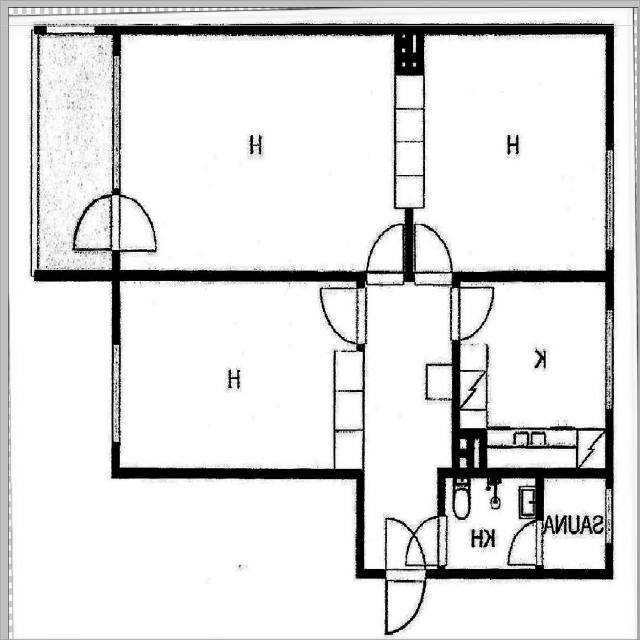door: (449, 276, 497, 345), (361, 216, 409, 284), (411, 218, 460, 281), (319, 278, 362, 347), (114, 192, 159, 255), (72, 191, 116, 255), (383, 514, 431, 572), (385, 573, 428, 635), (404, 515, 450, 564), (505, 513, 544, 568)
window: (598, 296, 622, 420), (598, 137, 622, 258), (109, 50, 128, 190), (106, 341, 126, 446), (602, 480, 618, 549)
zone: (124, 40, 399, 274), (404, 36, 618, 275), (113, 279, 367, 476), (458, 276, 610, 469), (364, 277, 444, 574), (35, 30, 118, 266), (439, 470, 539, 572), (539, 472, 610, 577), (73, 190, 115, 256)
